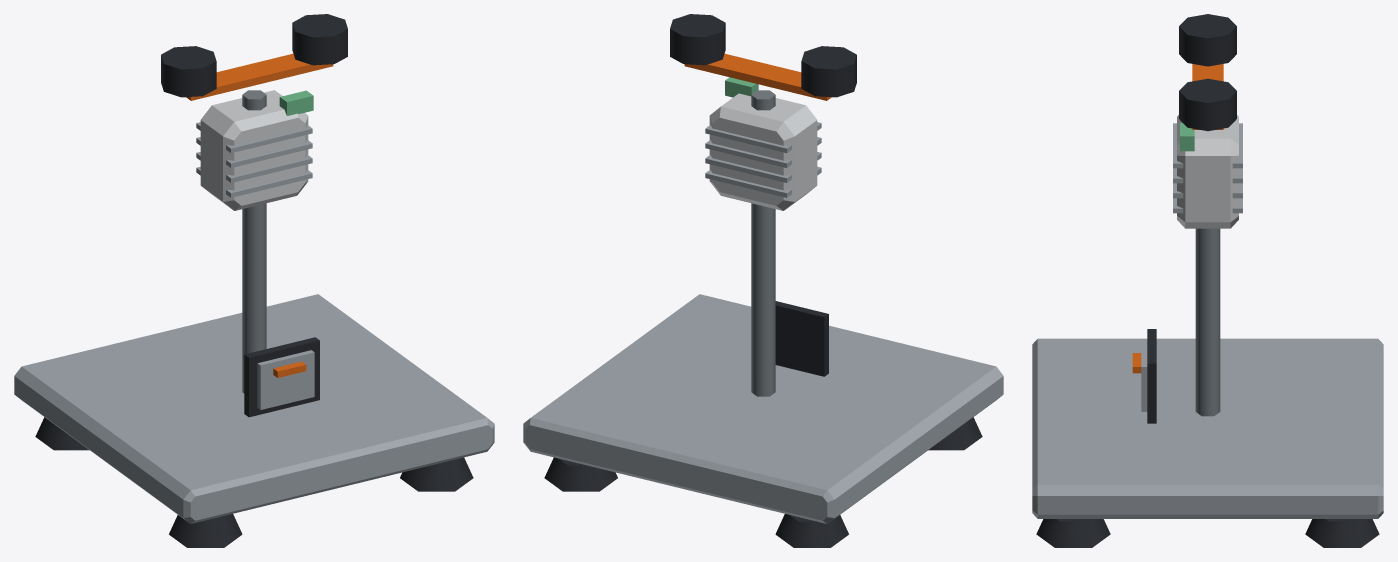
File: weather_station.glb
3 views of the same model, side by side, from view 1: azimuth 30°, elevation 25°; view 2: azimuth 150°, elevation 25°; view 3: azimuth 270°, elevation 25° (orthographic).
Visible parts, largest first — view 1: static_body_mesh.008, service_panel_mesh.008, status_lamp_mesh.006; view 2: static_body_mesh.008, service_panel_mesh.008; view 3: static_body_mesh.008, service_panel_mesh.008.
Boxes of the visible parts, <box> form: static_body_mesh.008: <box>14,14,494,547</box>; service_panel_mesh.008: <box>244,337,319,417</box>; status_lamp_mesh.006: <box>279,90,313,115</box>; static_body_mesh.008: <box>523,14,1003,547</box>; service_panel_mesh.008: <box>775,301,828,376</box>; static_body_mesh.008: <box>1032,14,1383,547</box>; service_panel_mesh.008: <box>1132,329,1156,423</box>.
Size of the model in its own units: 1.75 by 2.23 by 1.7.
